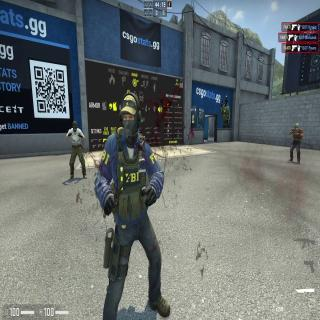CT-Body: (113, 95, 150, 319)
CT-Head: (122, 95, 140, 143)
T-Body: (69, 121, 84, 179), (290, 122, 302, 162)
T-Head: (72, 121, 77, 133), (294, 122, 298, 132)
